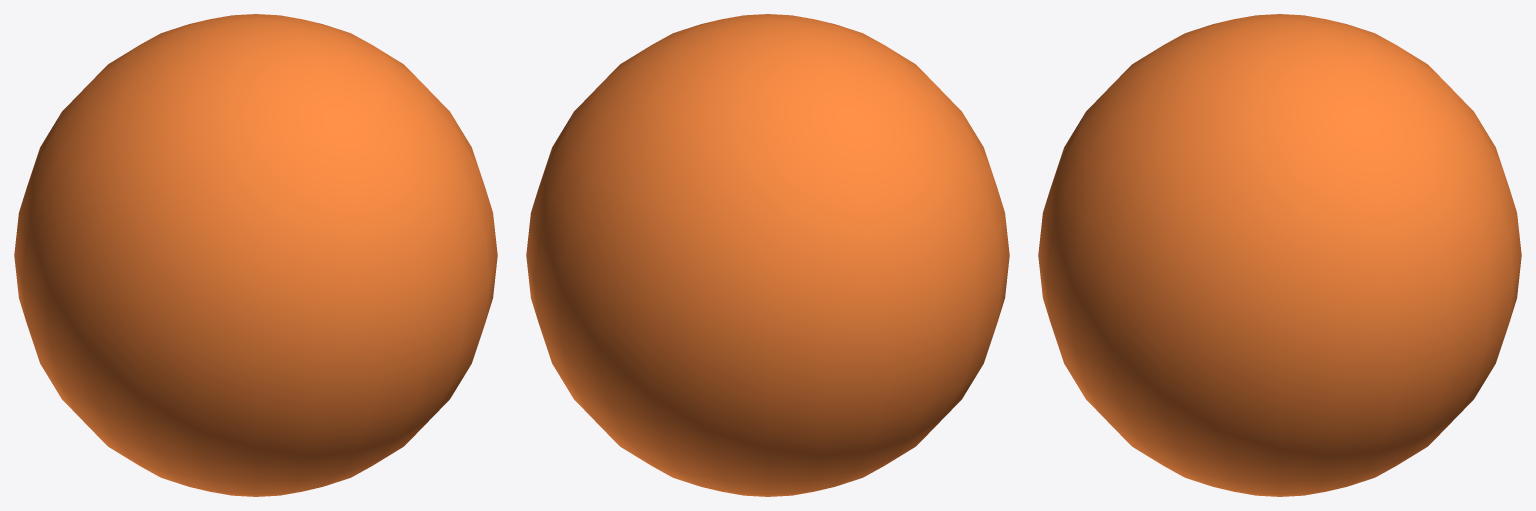
The model's file is bouncing_ball.glb.
3 views of the same model, side by side, from view 1: azimuth 30°, elevation 25°; view 2: azimuth 150°, elevation 25°; view 3: azimuth 270°, elevation 25° (orthographic).
Visible parts, largest first — view 1: ball; view 2: ball; view 3: ball.
Part boxes in pixels (x1,y1,x2,y2): ball: (14, 14, 497, 496); ball: (526, 14, 1009, 496); ball: (1038, 14, 1521, 496).
Bounding box in the file's own units: 1 × 1 × 1.
1 material, 1 textured.
